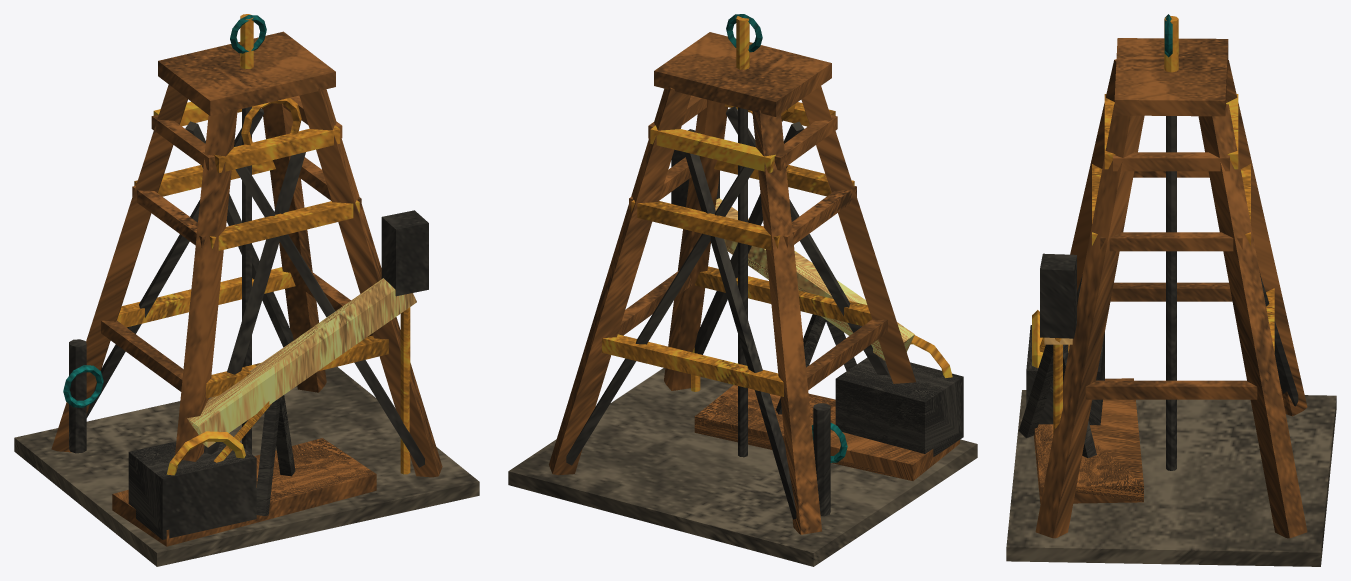
Rendered from derrick-01.glb.
3 renders of one model, left to right at view 1: azimuth 30°, elevation 25°; view 2: azimuth 150°, elevation 25°; view 3: azimuth 270°, elevation 25°, orthographic. The views are drawn at different scales.
Visible parts, largest first — view 1: derrick-01; view 2: derrick-01; view 3: derrick-01.
Part boxes in pixels (x1,y1,x2,y2): derrick-01: (14, 14, 479, 566); derrick-01: (508, 14, 977, 566); derrick-01: (1006, 14, 1336, 566).
Bounding box in the file's own units: 5.38 × 7.24 × 4.61.
Materials: 1 (1 with a texture image).
